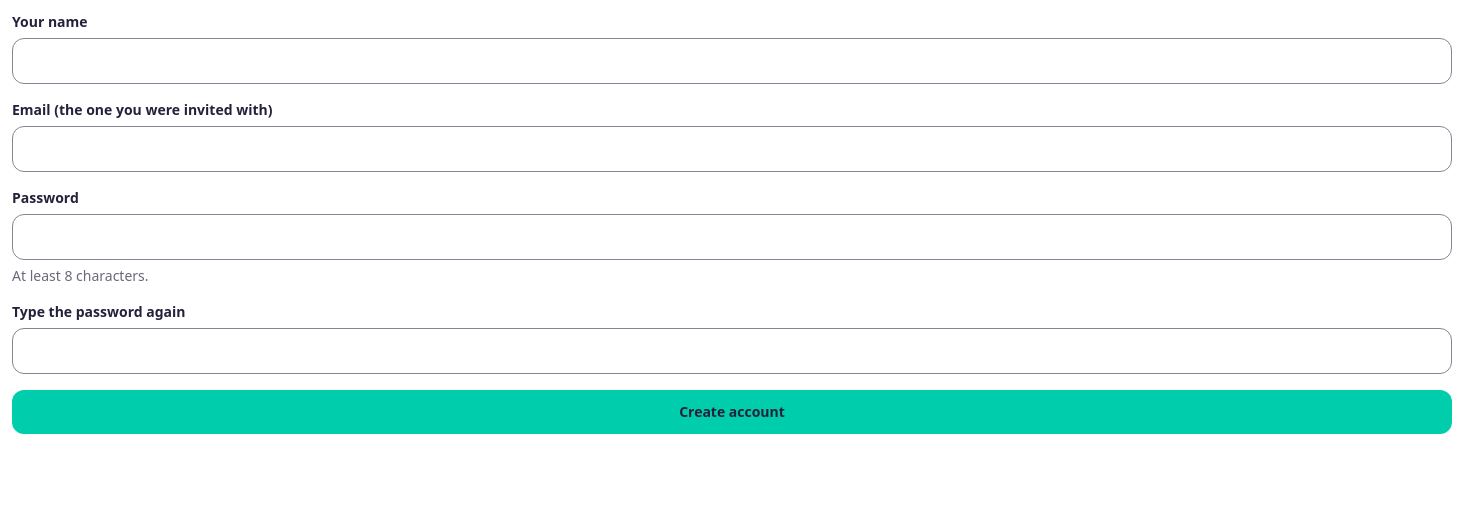
it: SignupForm › tells people the invite rules when the email was not invited
Type "Sam" into the field labelled "Your name" at (732, 61), box [12, 38, 1452, 84]
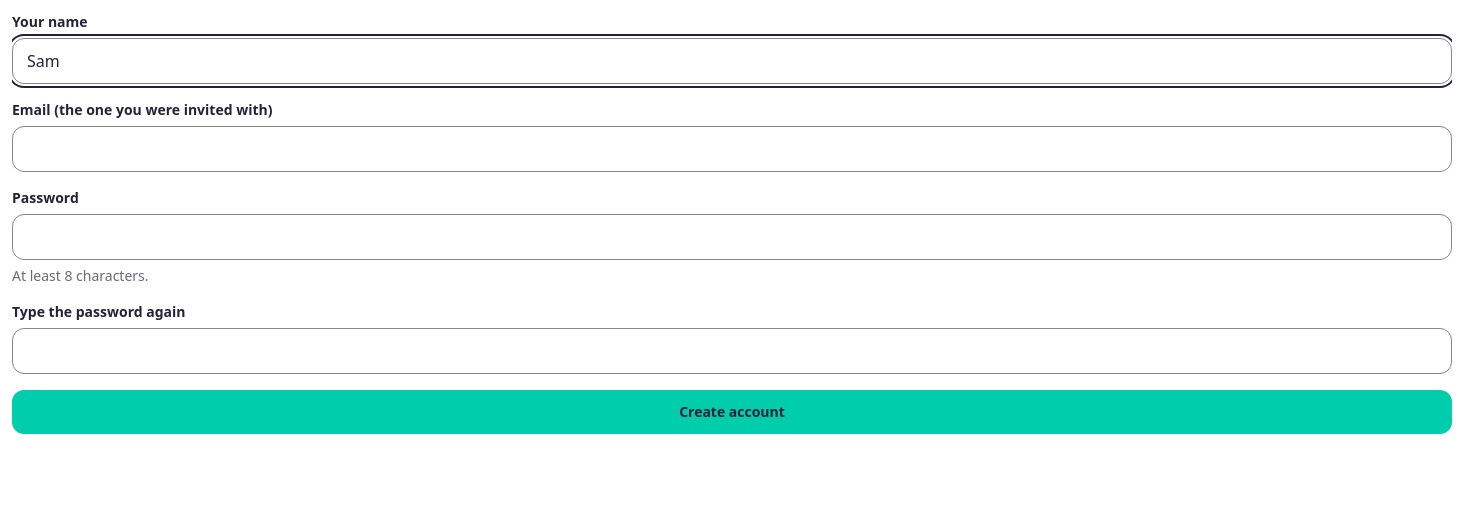
Type "sam@example.test" into the field labelled "Email (the one you were invited with)" at (732, 149), box [12, 126, 1452, 172]
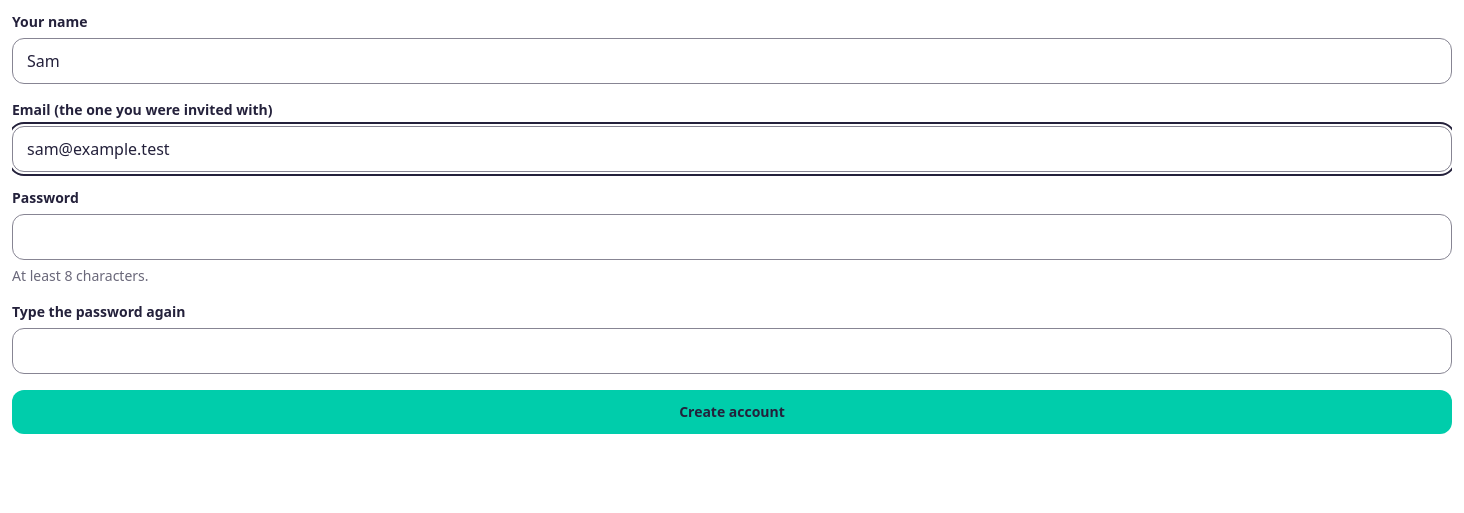
Type "long-enough-1" into the password field labelled "Password" at (732, 237), box [12, 214, 1452, 260]
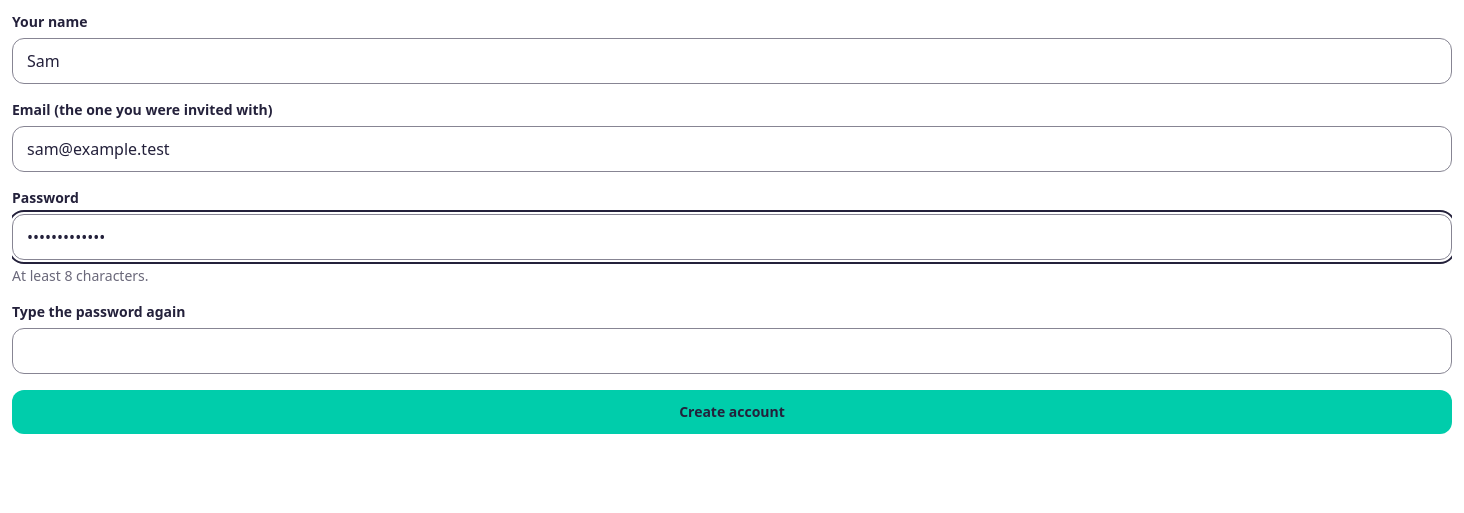
Type "long-enough-1" into the password field labelled "Type the password again" at (732, 351), box [12, 328, 1452, 374]
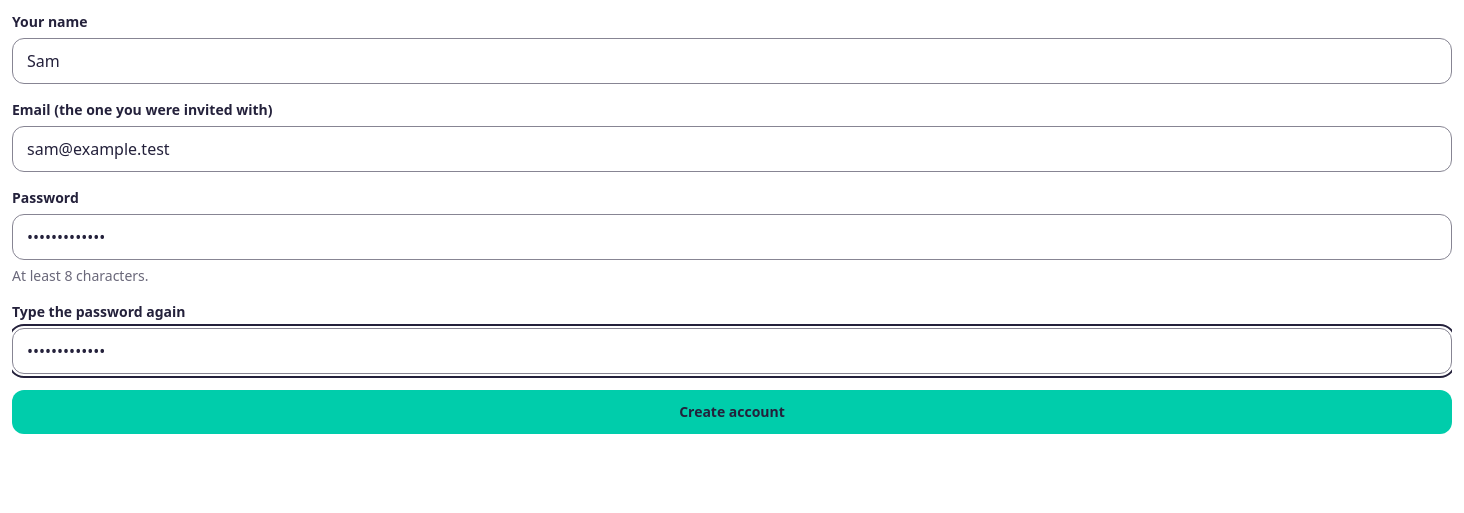
Click the button "Create account" at (732, 412), box [12, 390, 1452, 434]
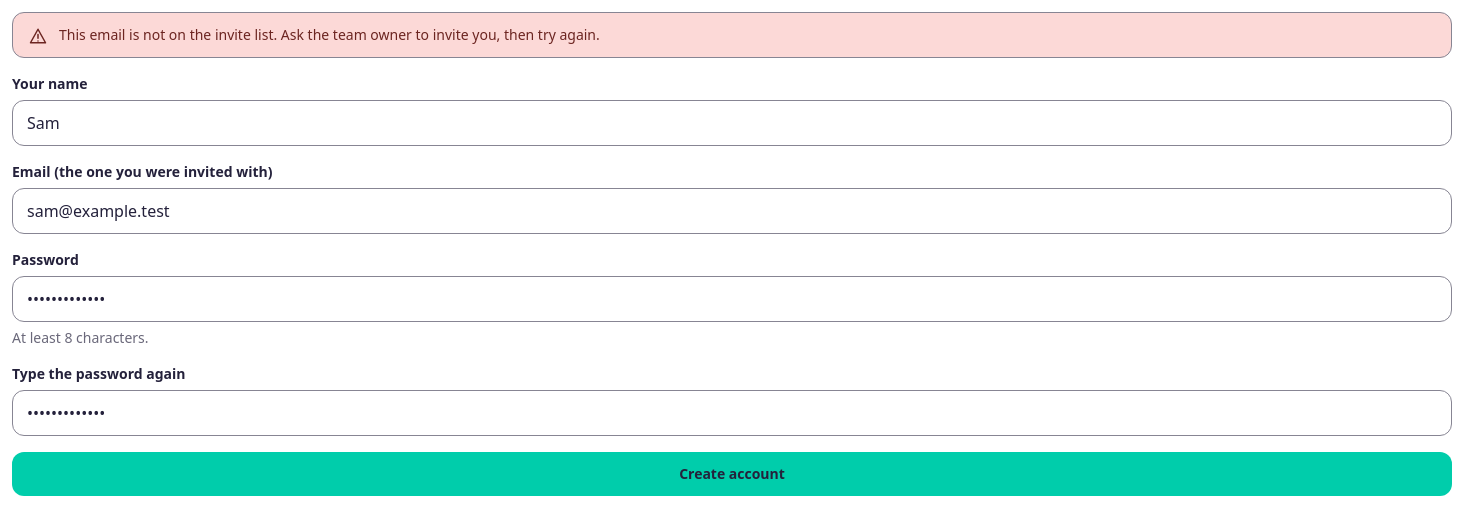
Result: the message shows "invite" at [59, 25, 600, 44]
